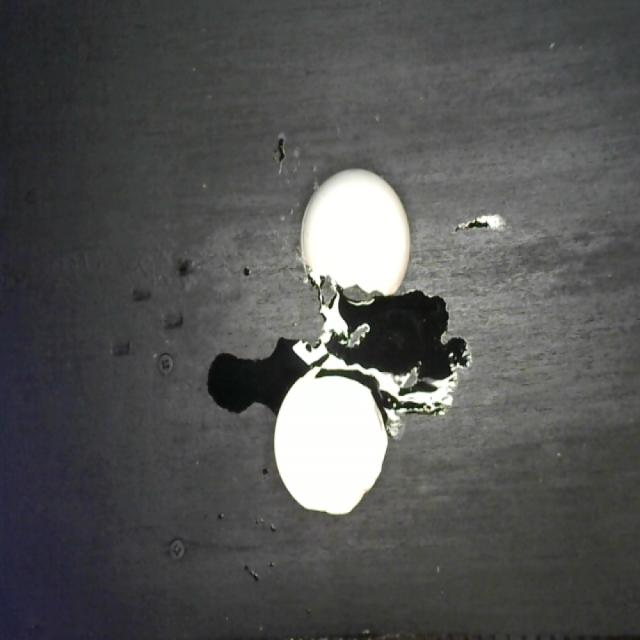biodegradable: (266, 162, 415, 521)
